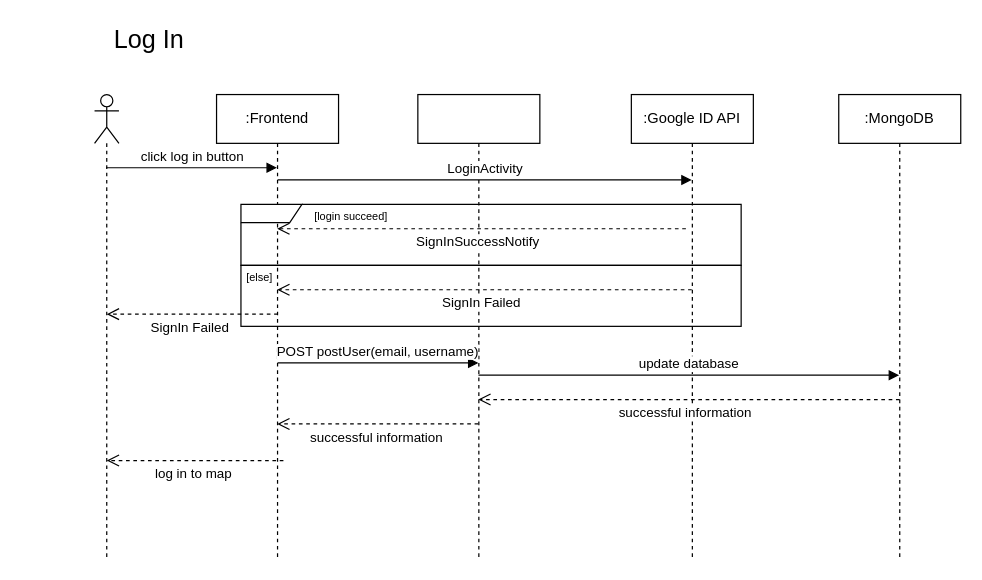
Image size: 982x580. Some labels were removed from this diagram. Here are the shapes that lost their labels. From the top down, the box of each, then its label:
(240, 203, 741, 265): alt
(417, 93, 540, 558): :User
